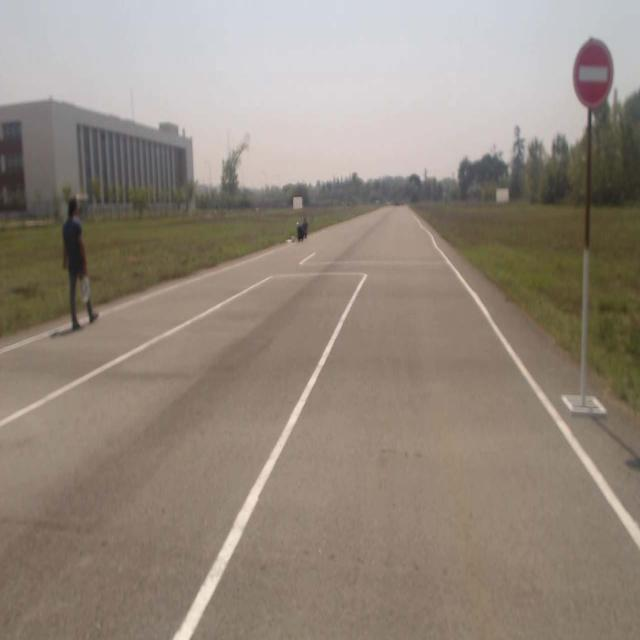girisyok: (569, 37, 617, 112)
